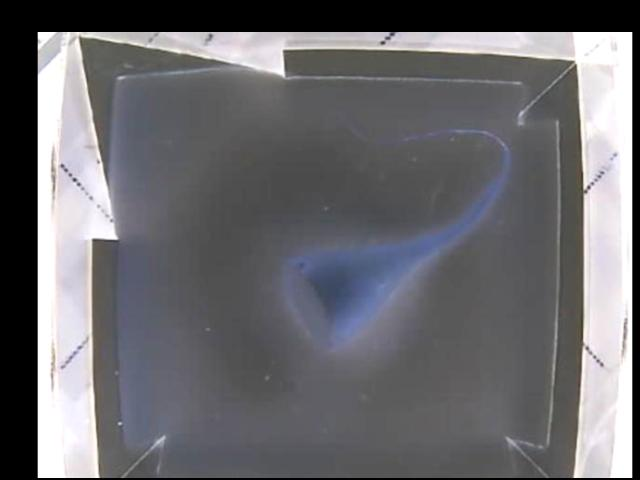Mooli: (282, 231, 454, 349)
